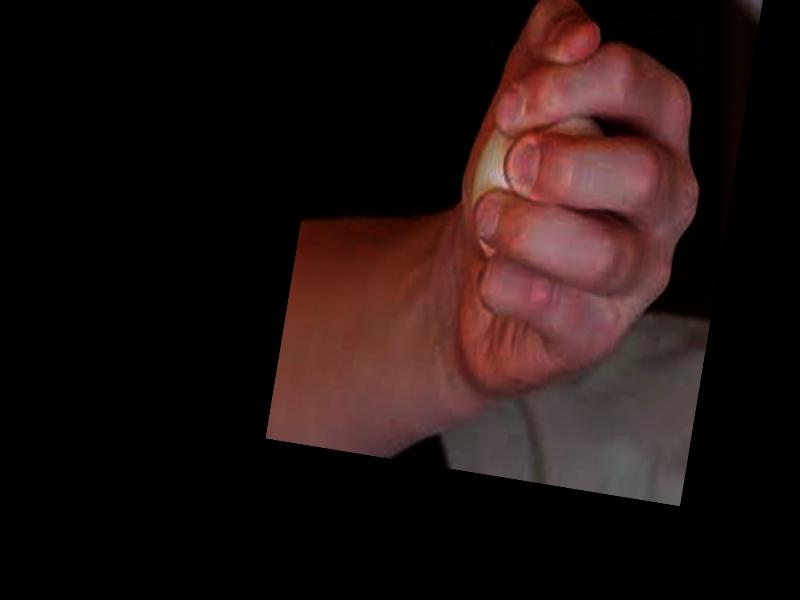Eggs: (460, 81, 612, 273)
